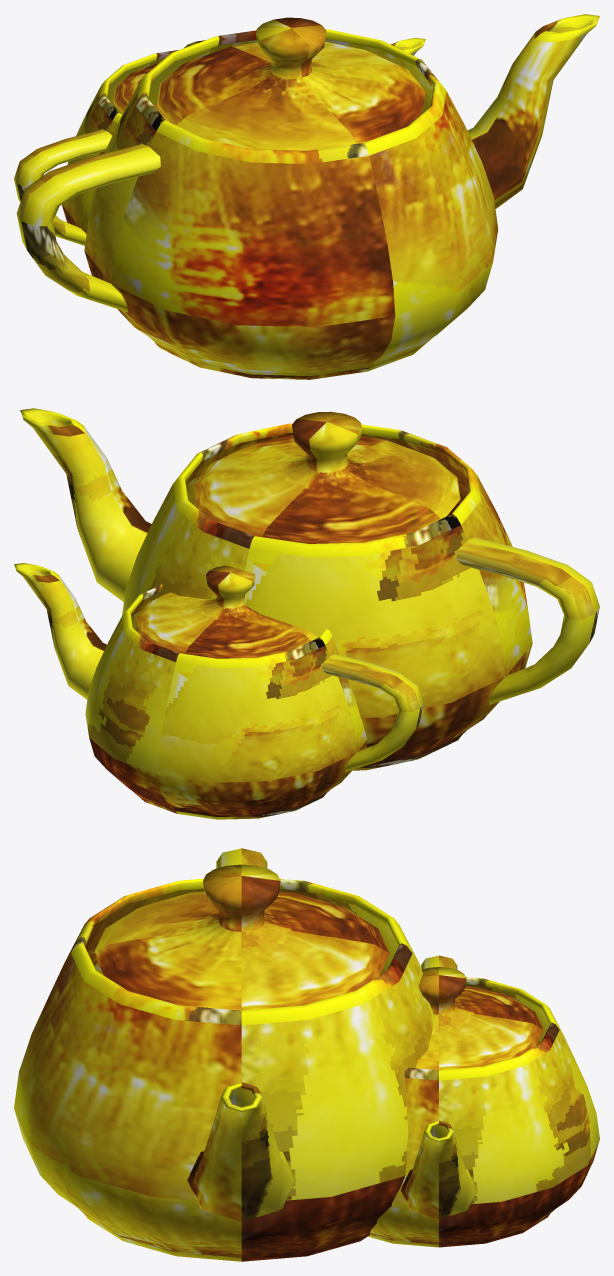
Rendered from teapot_bloom.obj.
The picture shows the model from 3 angles, top to bottom: view 1: azimuth 30°, elevation 25°; view 2: azimuth 150°, elevation 25°; view 3: azimuth 270°, elevation 25°; orthographic projection. The views are drawn at different scales.
Visible parts, largest first — view 1: Teapot001, Teapot002; view 2: Teapot001, Teapot002; view 3: Teapot001, Teapot002.
Part boxes in pixels (<box>): Teapot001: <box>16,14,599,379</box>; Teapot002: <box>14,38,425,245</box>; Teapot001: <box>20,408,599,770</box>; Teapot002: <box>14,563,423,819</box>; Teapot001: <box>14,848,433,1261</box>; Teapot002: <box>368,955,599,1247</box>.
Size of the model in its own units: 64.28 by 31.5 by 51.45.
1 material, 1 textured.
